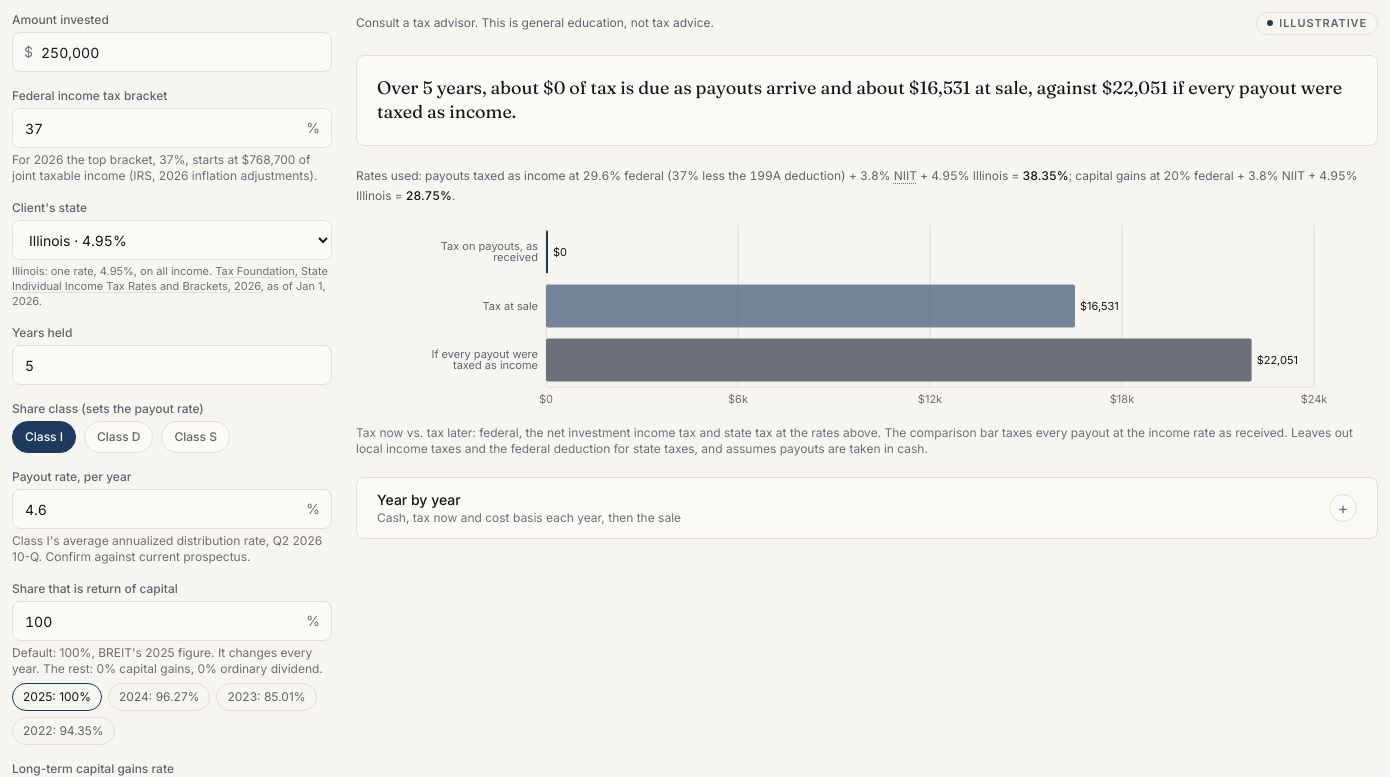
every tax figure adds federal, the NIIT and state tax › the calculator starts with the default state and the NIIT, and says which rates it used
Expected: the element that starts with "Rates used: payouts taxed as income at" shows "3.8% NIIT", [356,168,1358,202]
Expected: the element that starts with "Rates used: payouts taxed as income at" shows "4.95% Illinois", [917,168,1008,183]
Picking a state switches the rate used.
Select "California · 13.3%" in the dropdown labelled "Client's state": (172, 240) [12,220,332,260]
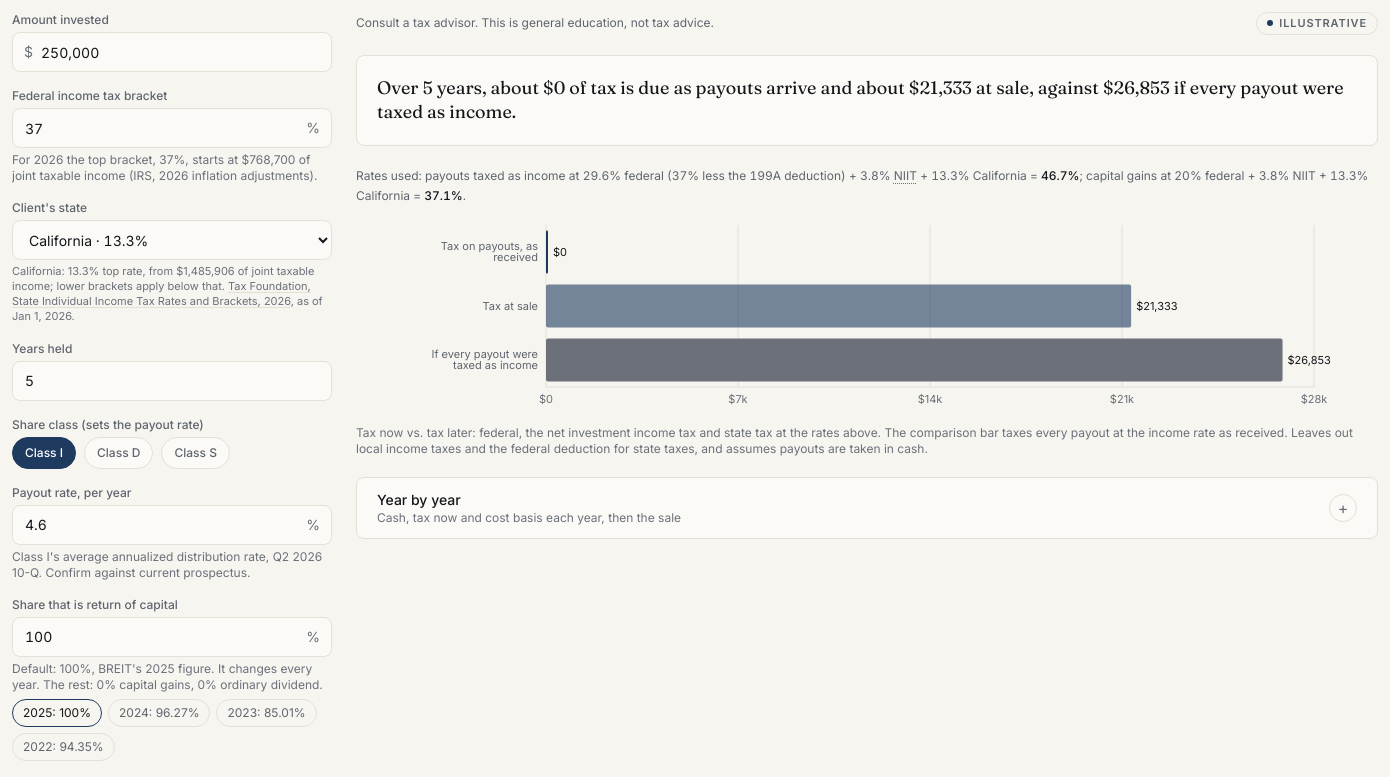
Now the element that starts with "Rates used: payouts taxed as income at" shows "13.3% California", box [917,168,1027,183]
